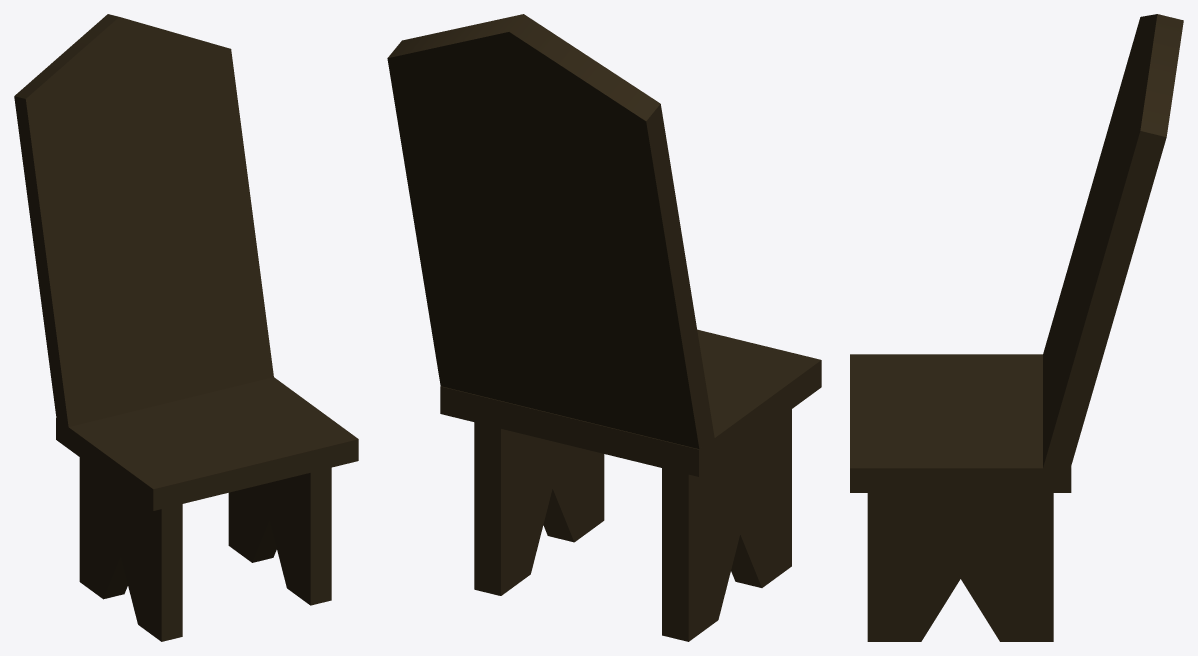
The picture shows the model from 3 angles, left to right: view 1: azimuth 30°, elevation 25°; view 2: azimuth 150°, elevation 25°; view 3: azimuth 270°, elevation 25°; orthographic projection. The views are drawn at different scales.
Visible parts, largest first — view 1: Object065; view 2: Object065; view 3: Object065.
Part boxes in pixels (box(x1,y1,x2,y2)): Object065: box(14, 14, 358, 641); Object065: box(387, 14, 821, 641); Object065: box(850, 14, 1183, 641).
Bounding box in the file's own units: 0.6275 × 1.49 × 0.7767.
